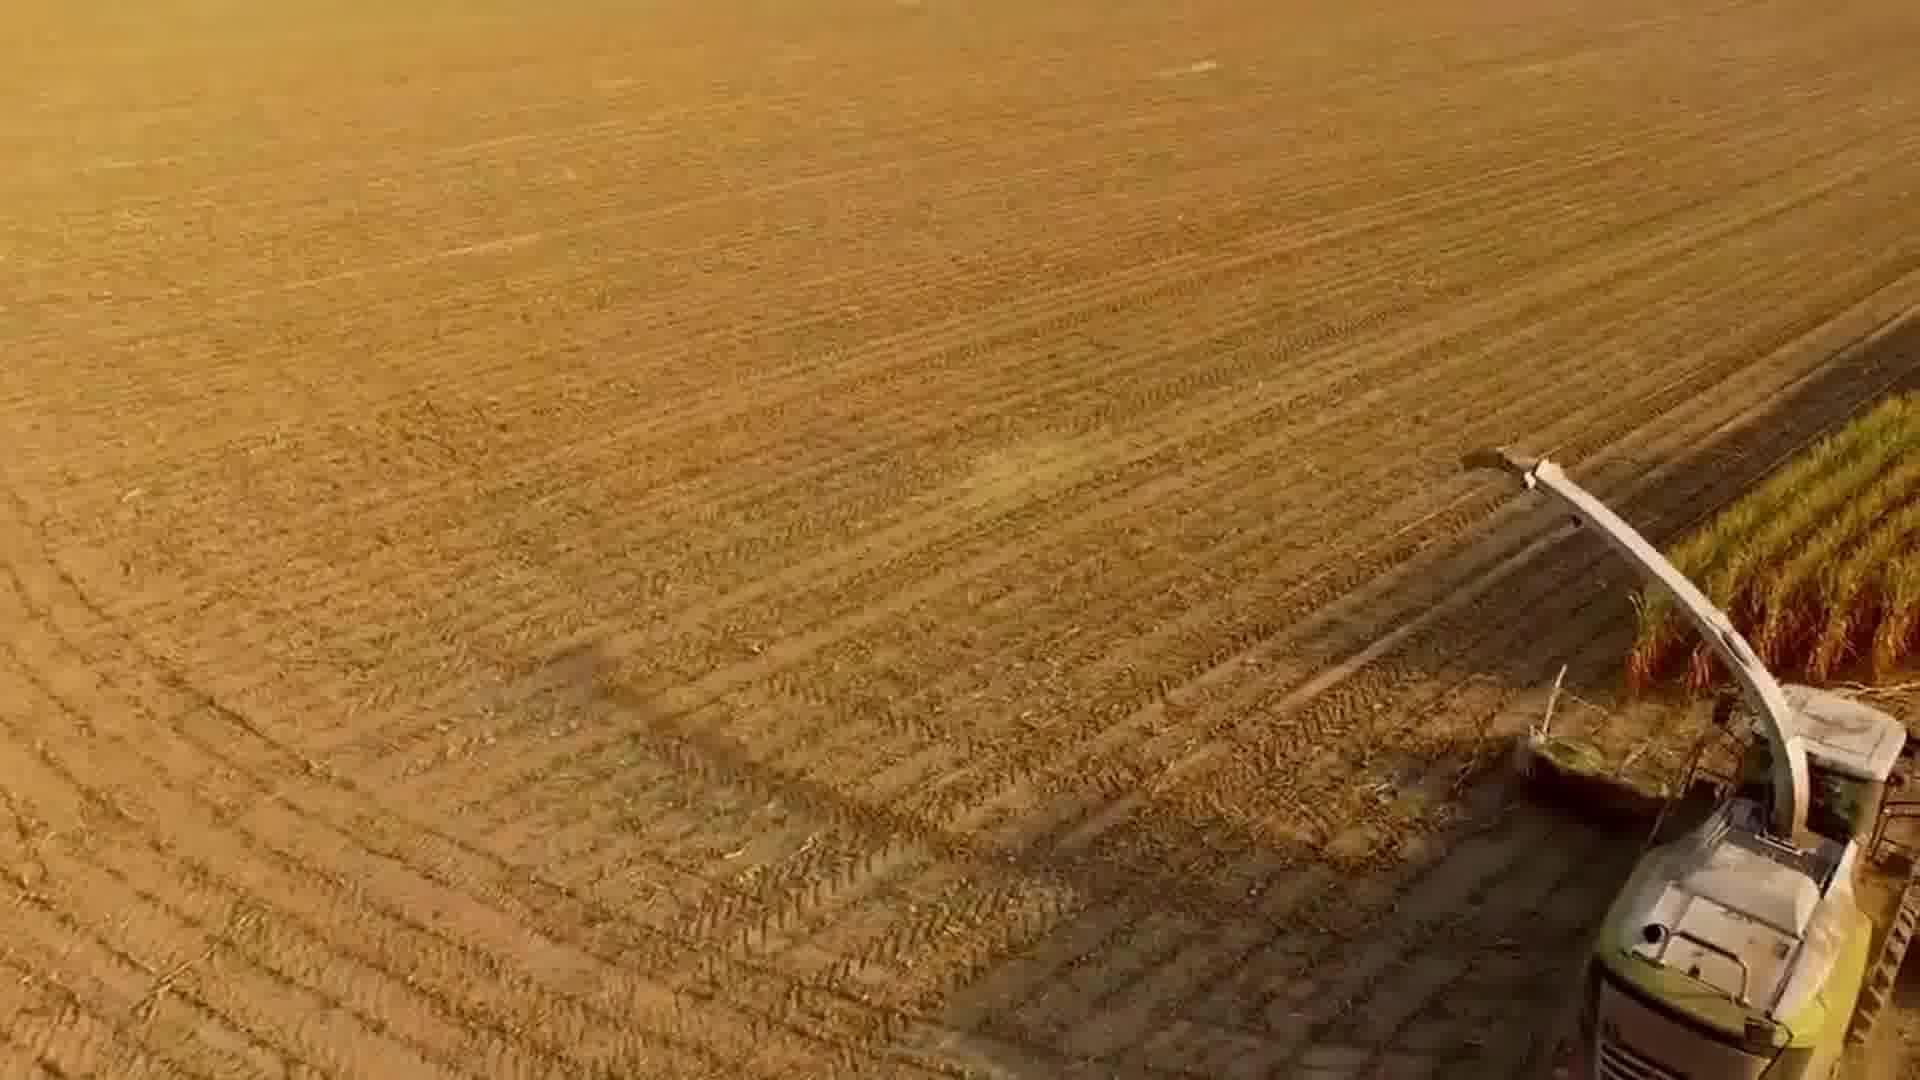combine harvester: (1455, 438, 1920, 1080)
